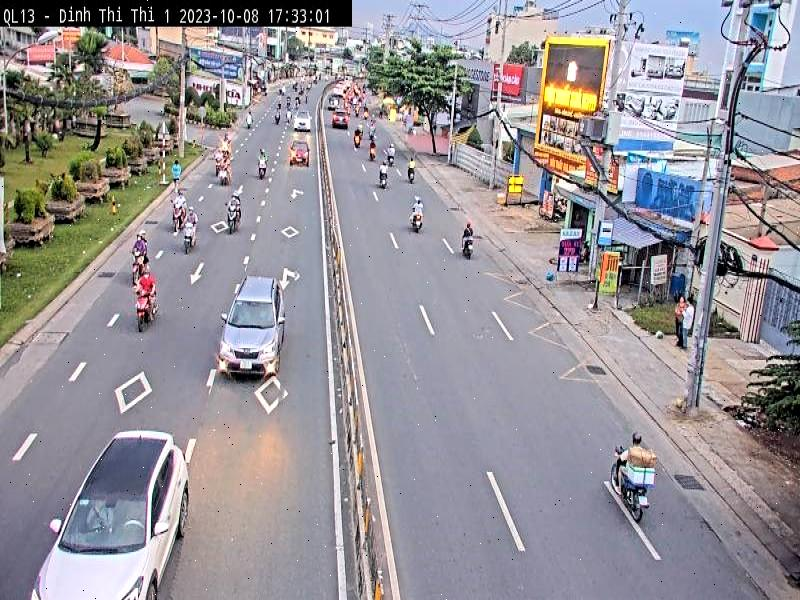car: (34, 432, 190, 599), (219, 274, 285, 380), (288, 140, 310, 166), (331, 106, 349, 130), (331, 116, 348, 129), (294, 120, 309, 131)
motorcycle: (583, 444, 669, 528), (132, 296, 160, 326), (216, 201, 245, 229), (125, 252, 143, 285), (177, 222, 199, 247), (460, 231, 477, 257), (171, 206, 187, 226), (354, 128, 364, 156), (376, 170, 390, 189), (256, 157, 268, 176), (368, 139, 378, 158), (409, 154, 414, 186), (273, 108, 284, 122), (368, 123, 377, 140), (245, 111, 254, 128), (386, 151, 396, 165), (413, 212, 422, 225)
